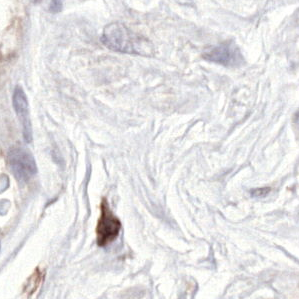Lymphocyte: (94, 198, 122, 249)
